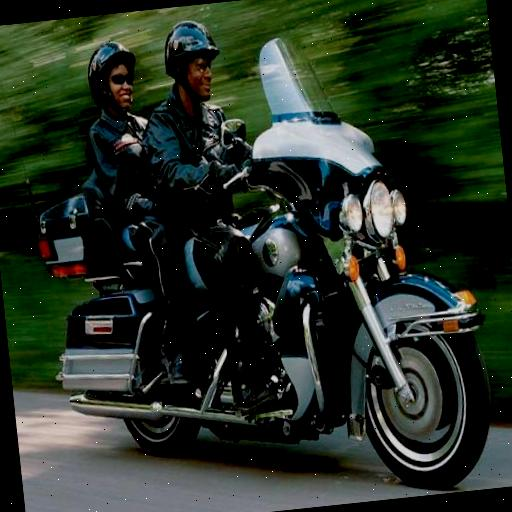helmet: (140, 6, 320, 455)
